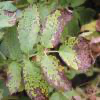Potato leaf early blight: (39, 7, 75, 46), (58, 36, 96, 70), (41, 54, 73, 94), (17, 0, 41, 53), (22, 61, 52, 99), (6, 62, 22, 96), (0, 7, 18, 29)
